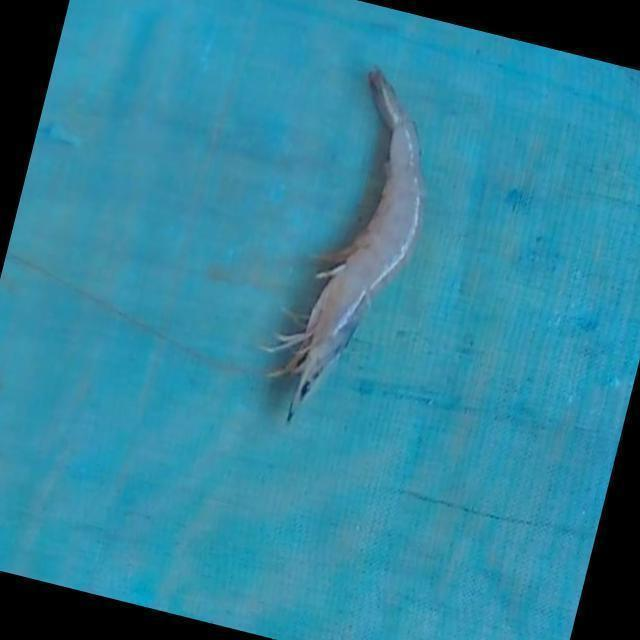shrimp: (268, 71, 424, 421)
